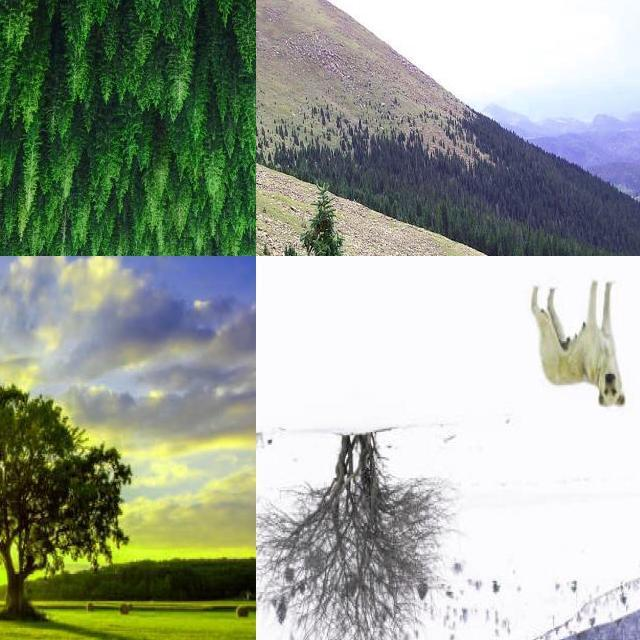tree: (256, 427, 442, 640), (0, 386, 120, 614), (256, 177, 459, 256), (19, 30, 53, 130), (138, 0, 178, 72), (184, 60, 212, 142), (86, 1, 130, 52), (106, 0, 146, 54), (40, 0, 80, 52), (1, 0, 40, 52), (216, 0, 248, 60), (210, 1, 252, 44), (96, 129, 120, 203), (32, 0, 66, 48), (196, 0, 220, 68), (166, 54, 194, 112), (19, 0, 59, 40), (212, 44, 232, 124), (59, 0, 87, 56), (69, 0, 103, 46), (173, 0, 210, 42), (54, 62, 74, 138), (22, 128, 40, 212), (119, 103, 141, 171), (236, 4, 256, 74), (176, 11, 204, 61), (212, 0, 240, 48), (71, 1, 103, 40), (66, 45, 88, 99), (170, 123, 190, 181), (171, 183, 191, 241), (204, 146, 226, 198), (143, 0, 171, 40), (240, 73, 256, 143), (176, 1, 204, 40), (1, 48, 20, 104), (0, 0, 20, 52), (1, 108, 16, 176), (103, 10, 121, 66), (237, 0, 256, 52), (146, 59, 164, 113), (0, 0, 20, 48), (150, 148, 170, 196), (13, 0, 34, 44), (131, 192, 149, 242), (146, 0, 174, 32), (0, 130, 10, 216), (134, 21, 152, 68), (62, 1, 86, 36), (0, 61, 12, 131), (4, 134, 20, 186), (1, 0, 16, 54), (124, 54, 144, 94), (42, 0, 64, 36), (108, 0, 136, 28), (58, 153, 74, 201), (96, 61, 114, 103), (0, 16, 12, 78), (114, 56, 128, 108), (77, 0, 95, 40), (80, 99, 98, 137), (0, 0, 24, 28), (0, 40, 12, 96), (2, 195, 18, 237), (256, 202, 268, 256), (212, 0, 235, 28), (0, 1, 12, 52), (0, 173, 12, 223), (129, 0, 149, 28), (104, 197, 118, 236), (1, 0, 16, 36), (1, 0, 20, 28), (16, 202, 29, 242), (0, 5, 10, 56), (92, 1, 108, 32), (0, 22, 10, 70), (256, 217, 268, 256), (0, 7, 8, 65), (0, 64, 12, 102), (72, 134, 86, 166), (256, 224, 270, 256), (107, 0, 125, 24), (1, 0, 16, 28), (0, 1, 12, 36), (7, 100, 20, 132), (0, 11, 8, 61), (256, 206, 264, 256), (0, 60, 8, 108), (0, 170, 8, 216), (0, 0, 12, 30), (89, 159, 101, 189), (256, 172, 264, 212), (40, 170, 52, 196), (1, 123, 8, 167), (0, 0, 12, 24), (0, 0, 12, 24), (0, 0, 12, 24), (1, 180, 8, 217), (1, 94, 8, 130), (0, 0, 10, 24), (1, 132, 8, 164), (0, 0, 8, 24), (0, 148, 4, 184), (1, 1, 8, 20)
